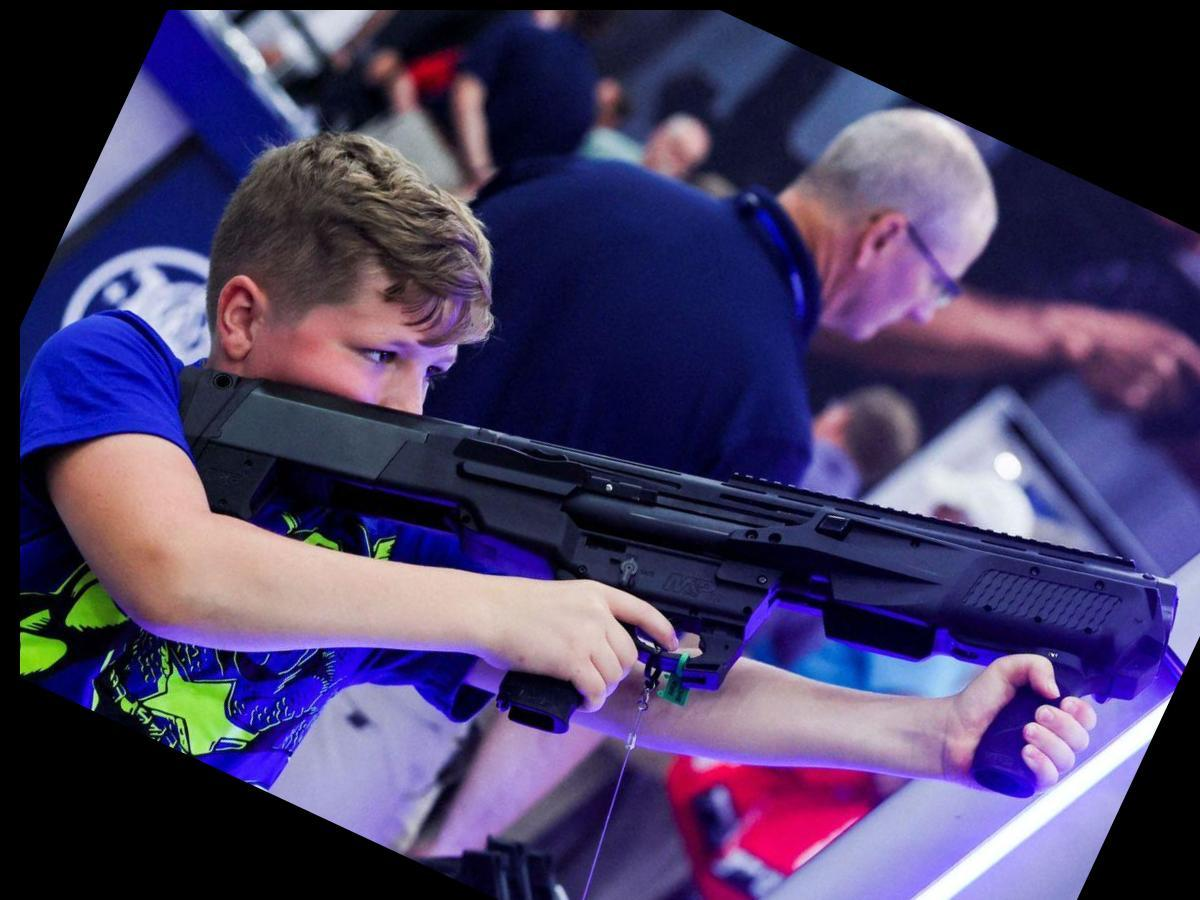larga: (166, 360, 1184, 802)
